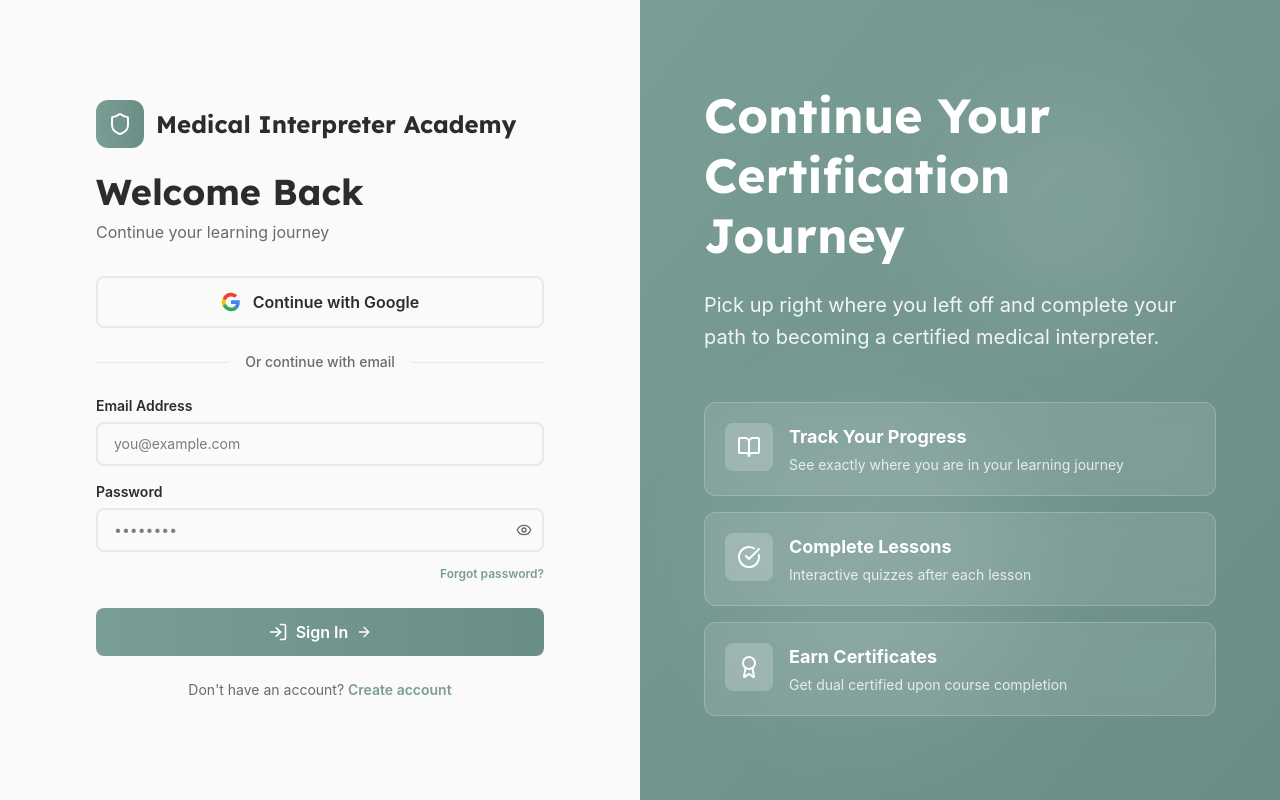
Login Page › Login Errors › should show error message when login fails
This screenshot has width=1280, height=800.
Type "wrong@example.com" into the field labelled "Email Address" at (320, 444), box [96,422,544,466]
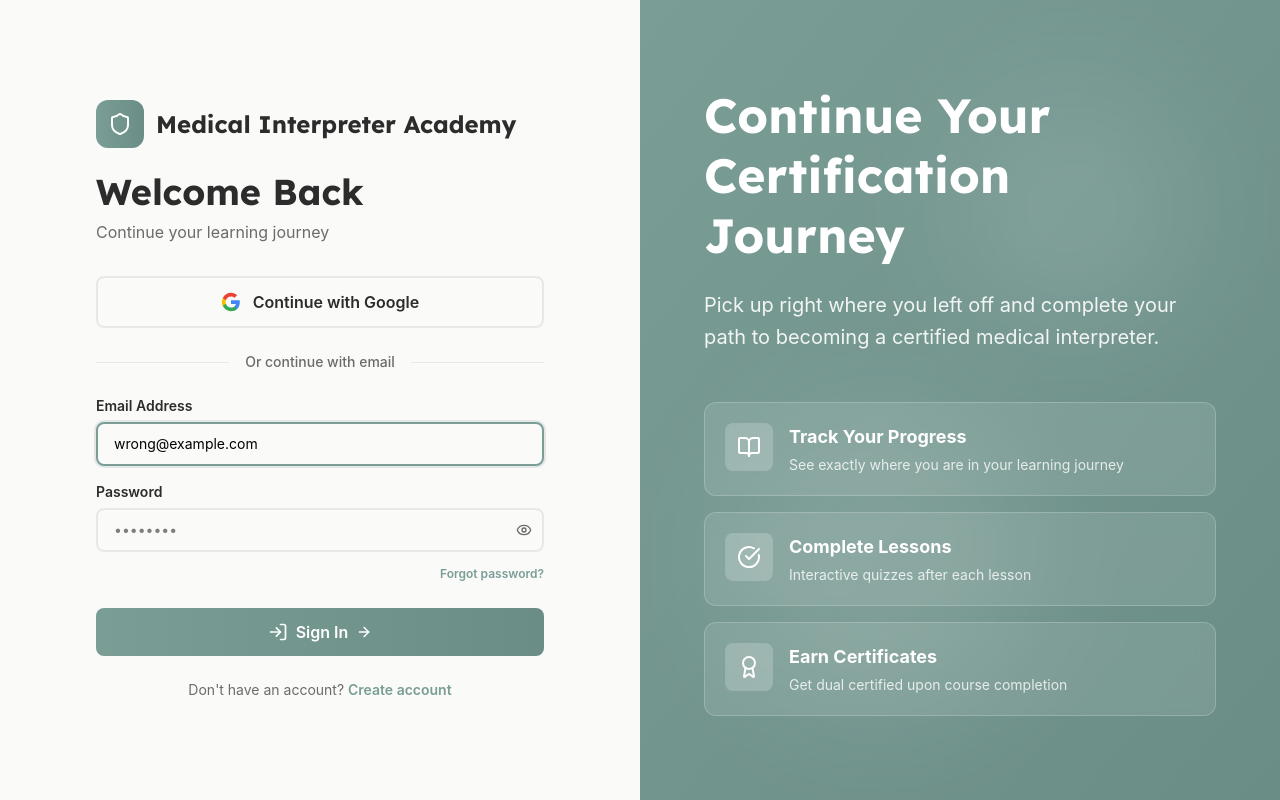
Type "wrongpass" into the password field labelled "Password" at (320, 530), box [96,508,544,552]
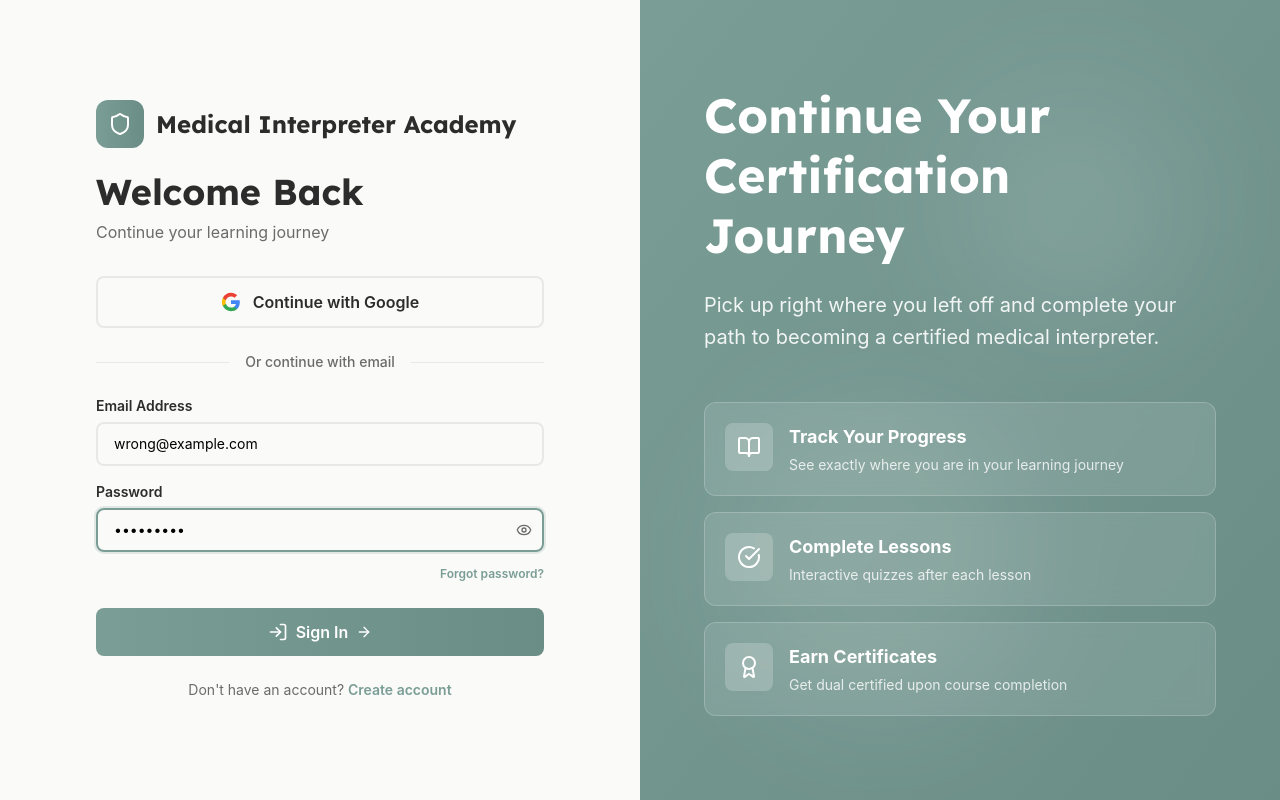
Click the button "Sign In" at (320, 632), box [96,608,544,656]
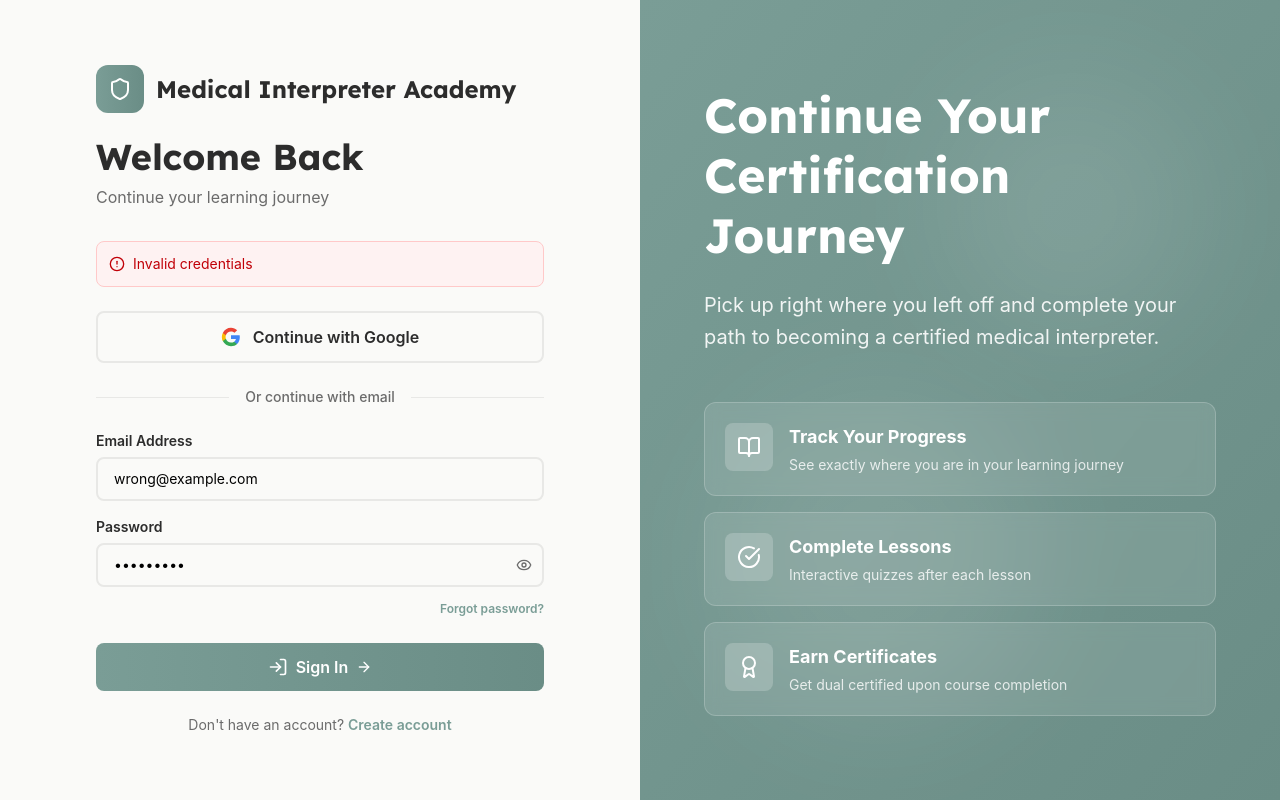
Check: the text "Invalid credentials" is shown, box [133,254,253,274]
